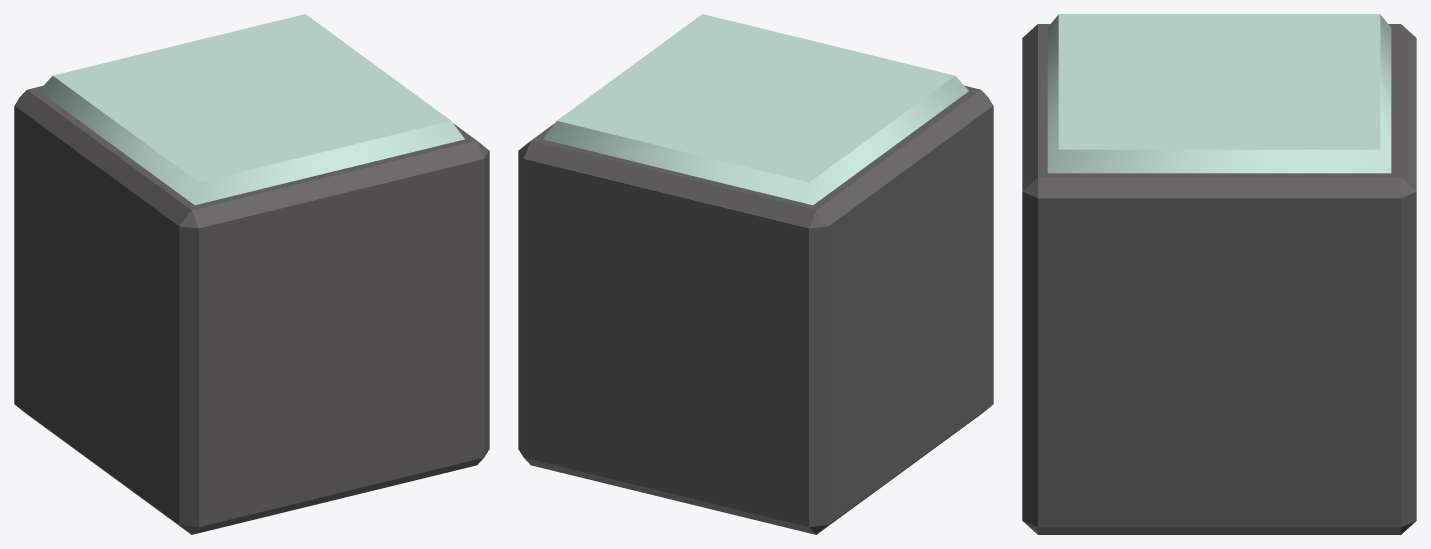
File: winter-cube-small.glb
3 views of the same model, side by side, from view 1: azimuth 30°, elevation 25°; view 2: azimuth 150°, elevation 25°; view 3: azimuth 270°, elevation 25° (orthographic). The views are drawn at different scales.
Visible parts, largest first — view 1: WinterCubeSmall; view 2: WinterCubeSmall; view 3: WinterCubeSmall.
Boxes of the visible parts, x1,y1,x2,y2 form: WinterCubeSmall: [14, 14, 489, 534]; WinterCubeSmall: [518, 14, 993, 534]; WinterCubeSmall: [1022, 14, 1416, 534].
Bounding box in the file's own units: 100 × 105 × 100.
1 material, 1 textured.
